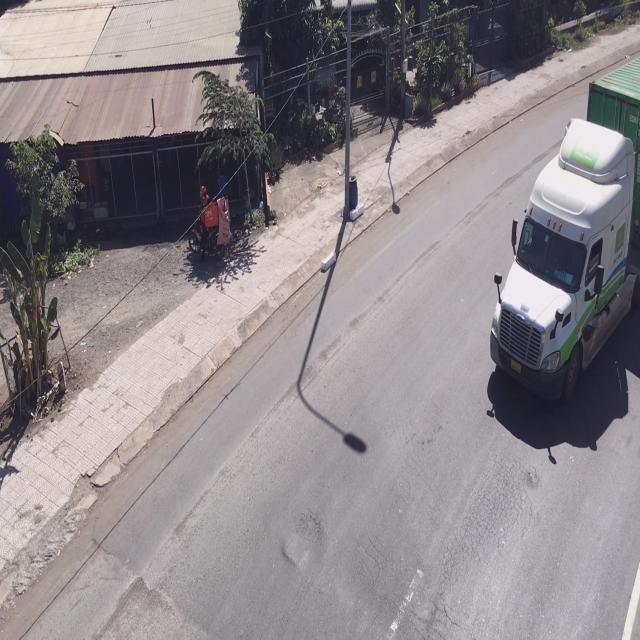truck: (489, 55, 640, 403)
